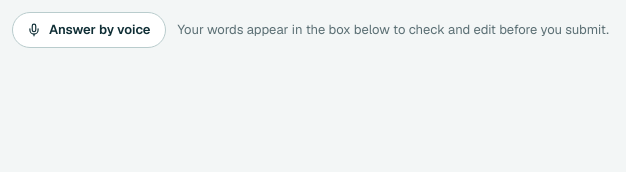
VoiceRecorder › explains a blocked microphone instead of failing silently
Click the button "Answer by voice" at (89, 30), box [12,12,166,48]
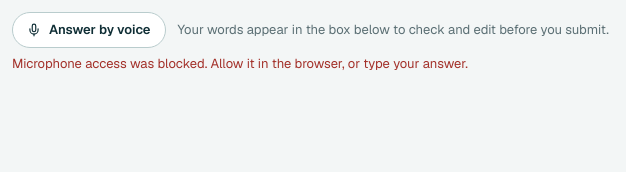
Expected: the message shows "Microphone access was blocked", [12,55,468,72]
